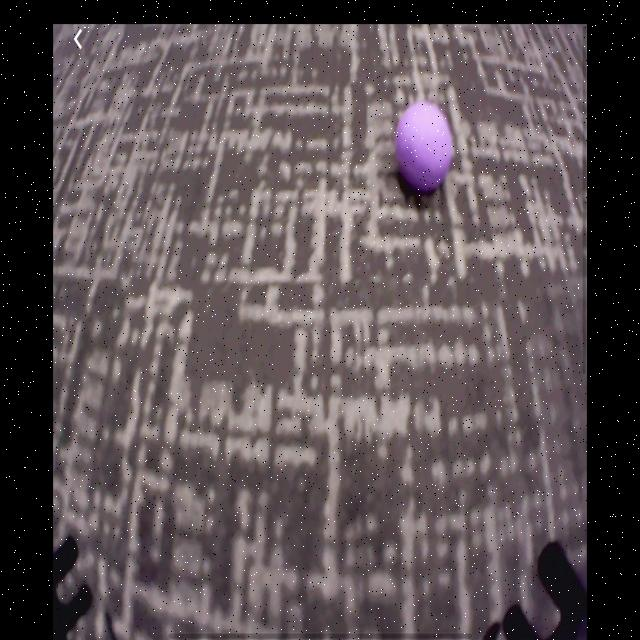ball: (394, 102, 455, 193)
